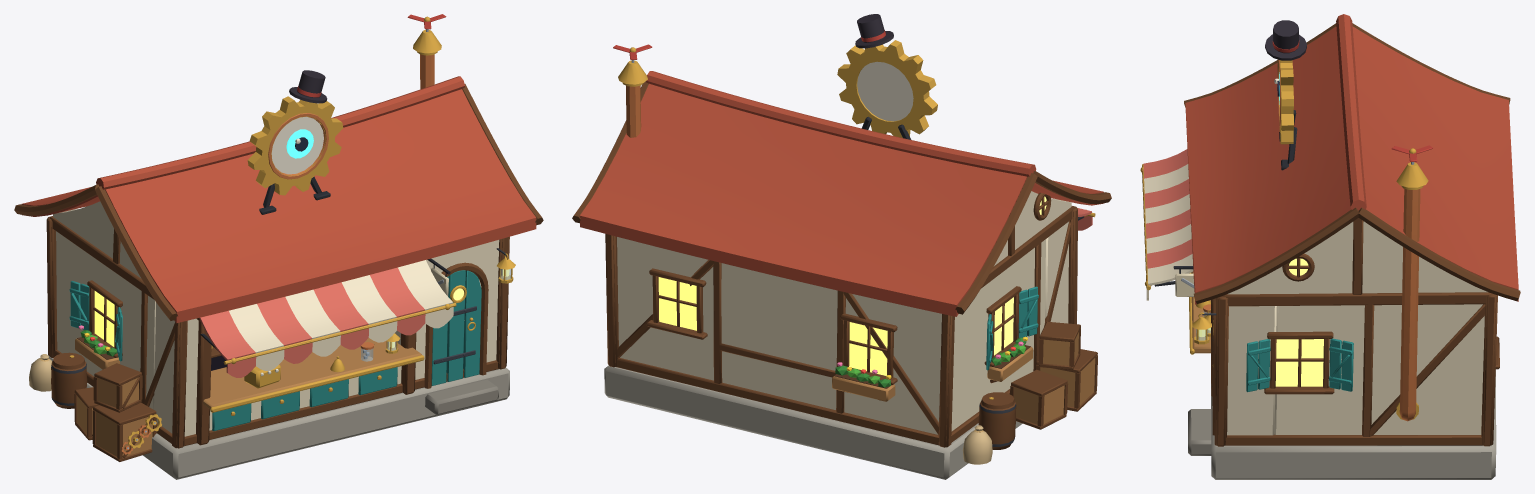
File: bld_tinker_shop.glb
The picture shows the model from 3 angles, left to right: view 1: azimuth 30°, elevation 25°; view 2: azimuth 150°, elevation 25°; view 3: azimuth 270°, elevation 25°; orthographic projection. The views are drawn at different scales.
Parts seen in each view (by area): view 1: TinkerShop; view 2: TinkerShop; view 3: TinkerShop.
Part boxes in pixels (box(x1,y1,x2,y2)): TinkerShop: box(14, 14, 543, 479); TinkerShop: box(572, 14, 1111, 479); TinkerShop: box(1140, 14, 1520, 479).
Size of what is drawn, in the model's own units: 8.14 by 6.61 by 6.15.
